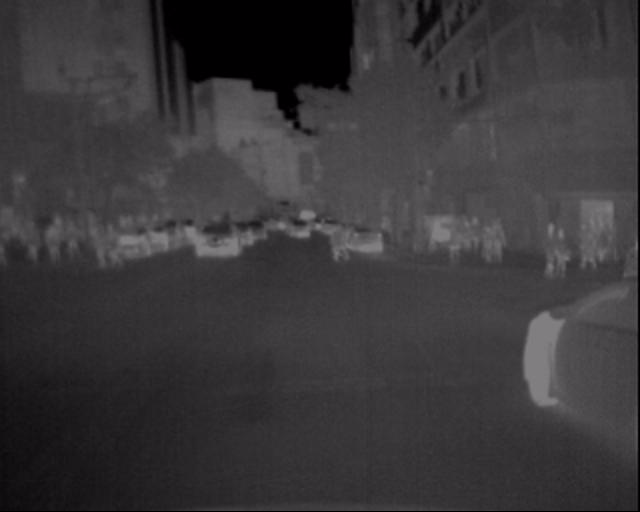person: (435, 217, 532, 277), (323, 222, 361, 270), (549, 213, 574, 282), (6, 215, 33, 278), (78, 221, 108, 276), (326, 224, 364, 267), (534, 215, 554, 280)
